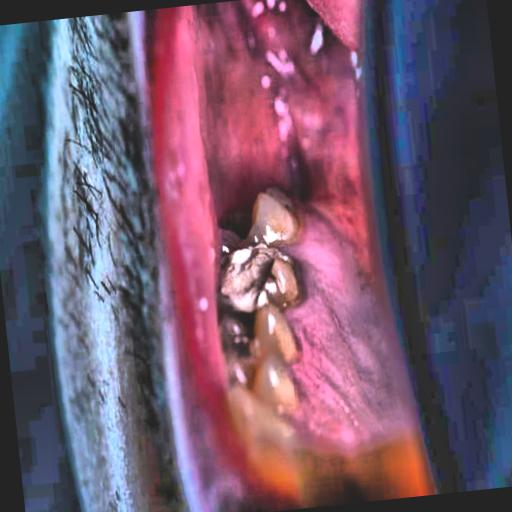Caries: (189, 196, 310, 366)
